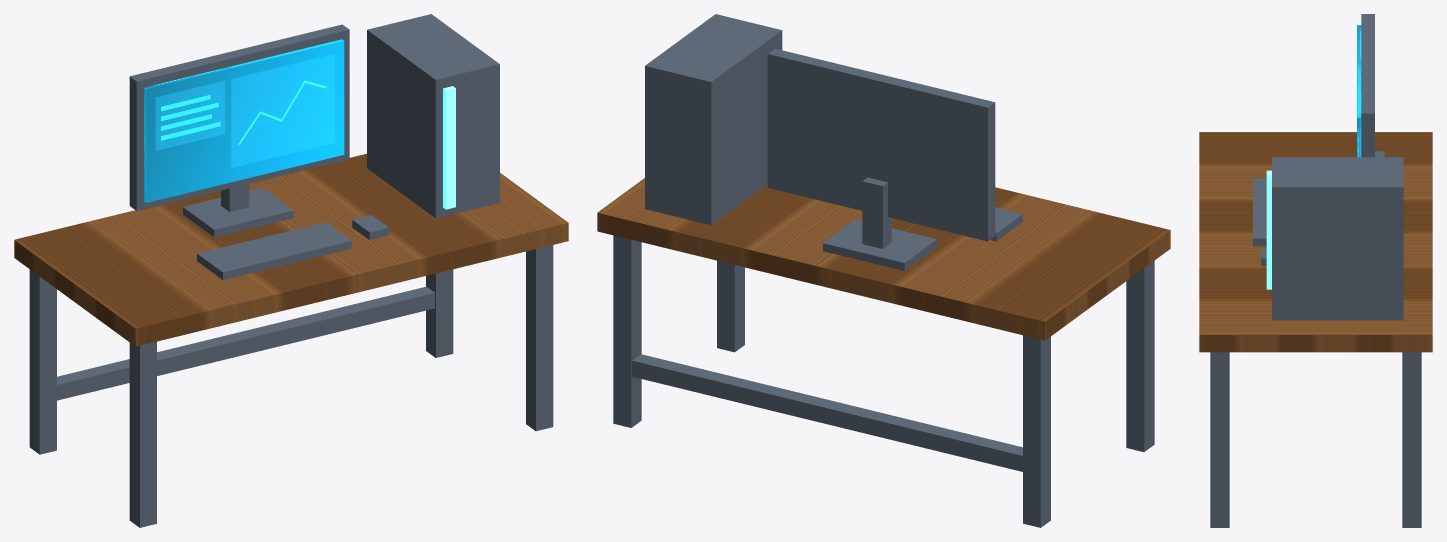
Rendered from computer_desk_setup.glb.
3 views of the same model, side by side, from view 1: azimuth 30°, elevation 25°; view 2: azimuth 150°, elevation 25°; view 3: azimuth 270°, elevation 25° (orthographic). The views are drawn at different scales.
Visible parts, largest first — view 1: computer_desk_setup, pc_monitor_screen; view 2: computer_desk_setup; view 3: computer_desk_setup, pc_monitor_screen.
Boxes of the visible parts, box(x1,y1,x2,y2) form: computer_desk_setup: box(14, 14, 568, 527); pc_monitor_screen: box(144, 39, 344, 202); computer_desk_setup: box(597, 14, 1170, 527); computer_desk_setup: box(1199, 14, 1432, 527); pc_monitor_screen: box(1357, 25, 1361, 157).
Size of the model in its own units: 1.75 by 1.43 by 0.85.
4 materials, 2 textured.
